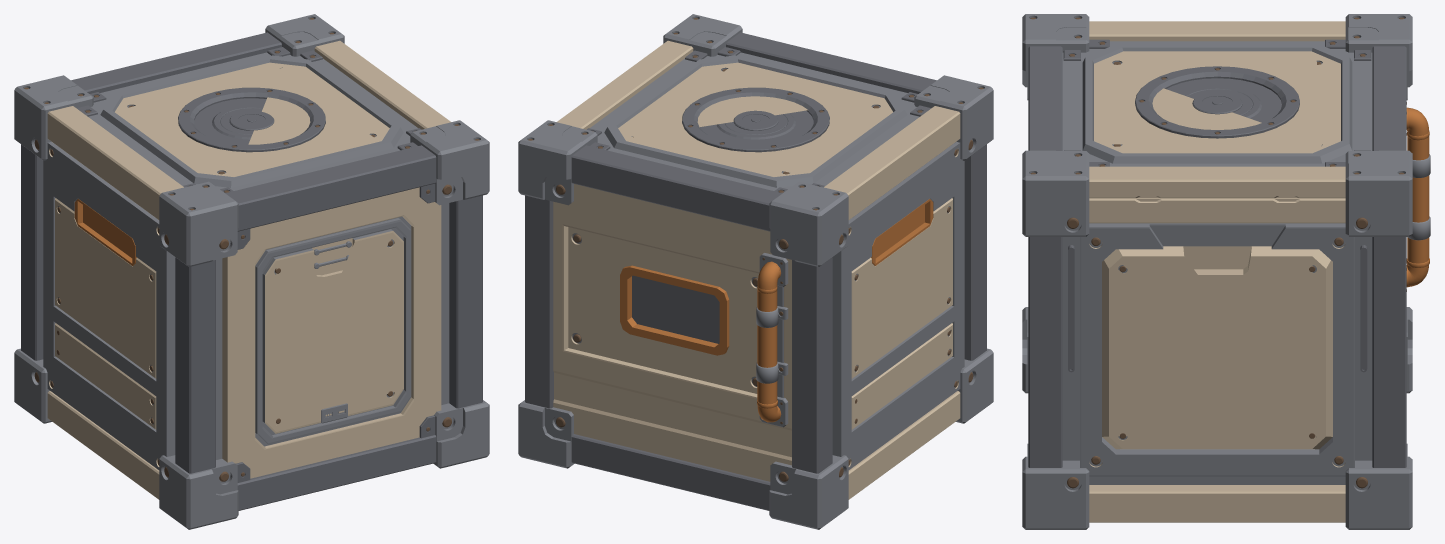
3 views of the same model, side by side, from view 1: azimuth 30°, elevation 25°; view 2: azimuth 150°, elevation 25°; view 3: azimuth 270°, elevation 25° (orthographic). The views are drawn at different scales.
Parts seen in each view (by area): view 1: Cube.006, Cube.011, Cube.001, Cube, Cube.021, Cube.016, Cube.020, Cylinder.007, Cube.018, Cube.022, Cube.019, Cube.007 (+7 smaller); view 2: Cube.005, Cube.011, Cube.001, Cube, Cube.019, Cube.003, Cube.025, Cube.004, Cube.017, Cylinder.007, Cube.022, Cube.021 (+8 smaller); view 3: Front_Panel, Cube.001, Cube, Cube.023, Body, Cube.002, Cube.004, Cube.020, Cylinder.007, Cube.029, Cube.007, Cube.022 (+6 smaller).
Part boxes in pixels (left/top/right/bottom): Cube.006: left=222, top=187, right=441, bottom=478; Cube.011: left=43, top=141, right=175, bottom=469; Cube.001: left=14, top=14, right=489, bottom=529; Cube: left=100, top=55, right=403, bottom=187; Cube.021: left=175, top=257, right=215, bottom=473; Cube.016: left=225, top=145, right=436, bottom=231; Cube.020: left=449, top=195, right=482, bottom=408; Cylinder.007: left=178, top=87, right=325, bottom=152; Cube.018: left=237, top=435, right=436, bottom=510; Cube.022: left=47, top=106, right=183, bottom=219; Cube.019: left=21, top=144, right=43, bottom=360; Cube.007: left=88, top=52, right=417, bottom=190; Cube.005: left=553, top=184, right=791, bottom=481; Cube.011: left=832, top=141, right=964, bottom=469; Cube.001: left=518, top=14, right=993, bottom=529; Cube: left=604, top=55, right=907, bottom=187; Cube.019: left=792, top=257, right=832, bottom=473; Cube.003: left=571, top=145, right=782, bottom=231; Cube.025: left=620, top=265, right=729, bottom=355; Cube.004: left=525, top=195, right=553, bottom=408; Cube.017: left=571, top=434, right=770, bottom=510; Cylinder.007: left=682, top=87, right=829, bottom=152; Cube.022: left=824, top=106, right=960, bottom=219; Cube.021: left=964, top=144, right=986, bottom=360; Front_Panel: left=1080, top=223, right=1354, bottom=476; Cube.001: left=1022, top=14, right=1412, bottom=529; Cube: left=1082, top=44, right=1352, bottom=163; Cube.023: left=1089, top=485, right=1345, bottom=522; Body: left=1062, top=237, right=1372, bottom=484; Cube.002: left=1089, top=166, right=1345, bottom=198; Cube.004: left=1372, top=237, right=1406, bottom=467; Cube.020: left=1028, top=237, right=1062, bottom=467; Cylinder.007: left=1135, top=66, right=1299, bottom=138; Cube.029: left=1089, top=198, right=1345, bottom=223; Cube.007: left=1062, top=41, right=1372, bottom=166; Cube.022: left=1089, top=21, right=1345, bottom=41.
Size of the model in its own units: 227 by 227 by 237.
